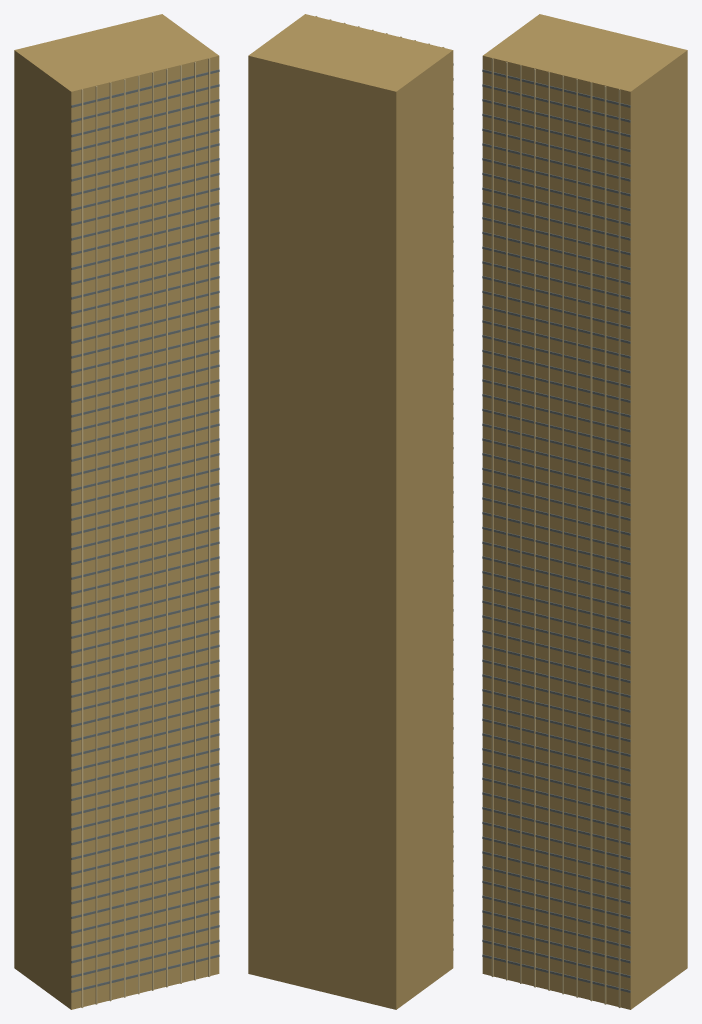
3 views of the same model, side by side, from view 1: azimuth 30°, elevation 25°; view 2: azimuth 150°, elevation 25°; view 3: azimuth 330°, elevation 25° (orthographic).
Visible parts, largest first — view 1: Visual; view 2: Visual; view 3: Visual.
Part boxes in pixels (x1,y1,x2,y2): Visual: (14, 14, 219, 1009); Visual: (248, 14, 453, 1009); Visual: (482, 14, 687, 1009).
Bounding box in the file's own units: 42 × 249 × 28.43.
